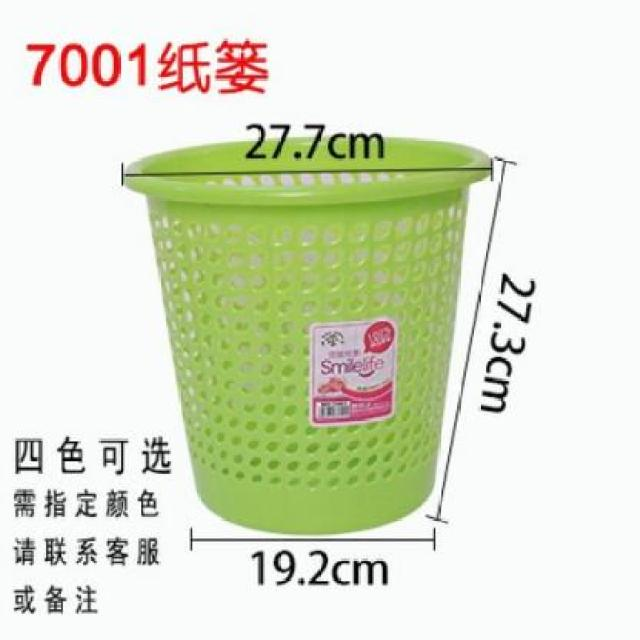dustbin: (120, 131, 498, 539)
